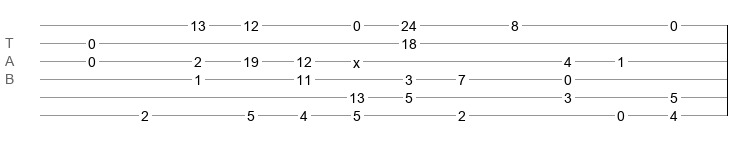0: (88, 36, 96, 46), (88, 54, 96, 64), (353, 18, 361, 28), (564, 72, 572, 82), (617, 108, 625, 118), (670, 18, 678, 28)
1: (194, 72, 202, 82), (617, 54, 625, 64)
11: (296, 72, 312, 82)
12: (243, 18, 259, 28), (296, 54, 312, 64)
13: (190, 18, 206, 28), (349, 90, 365, 100)
18: (401, 36, 417, 46)
19: (243, 54, 259, 64)
2: (141, 108, 149, 118), (194, 54, 202, 64), (458, 108, 466, 118)
24: (401, 18, 417, 28)
3: (405, 72, 413, 82), (564, 90, 572, 100)
4: (300, 108, 308, 118), (564, 54, 572, 64), (670, 108, 678, 118)
5: (247, 108, 255, 118), (353, 108, 361, 118), (405, 90, 413, 100), (670, 90, 678, 100)
7: (458, 72, 466, 82)
8: (511, 18, 519, 28)
x: (353, 55, 360, 63)
